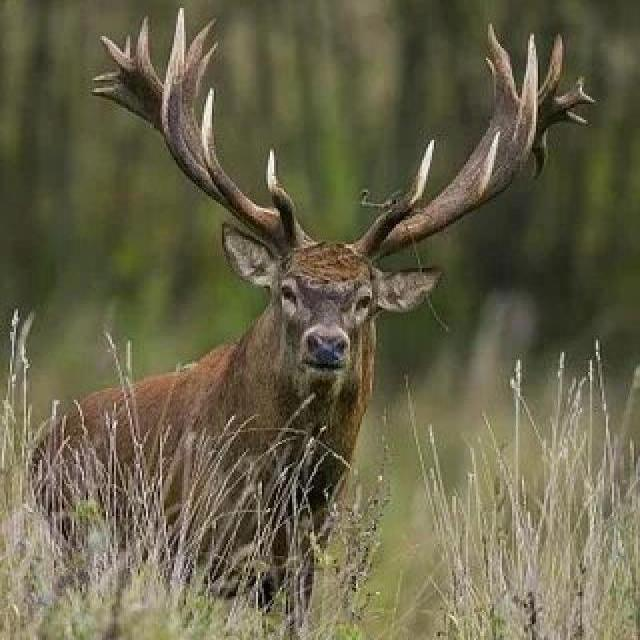deer: (11, 49, 586, 515)
